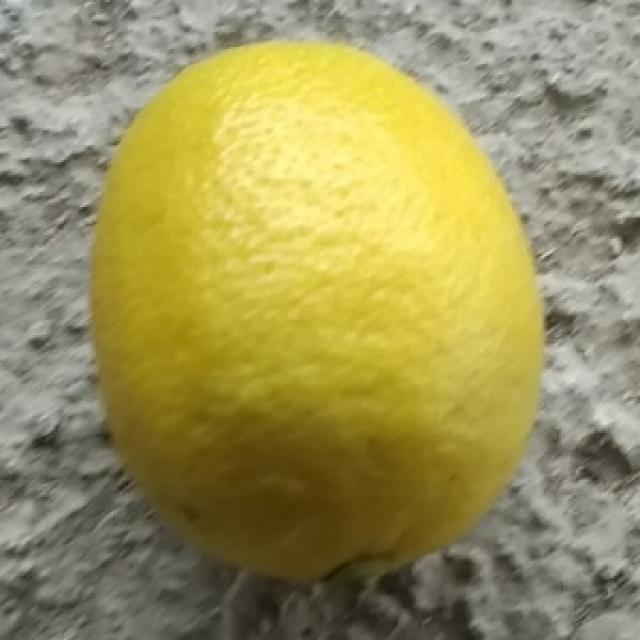Ripe: (85, 37, 548, 592)
